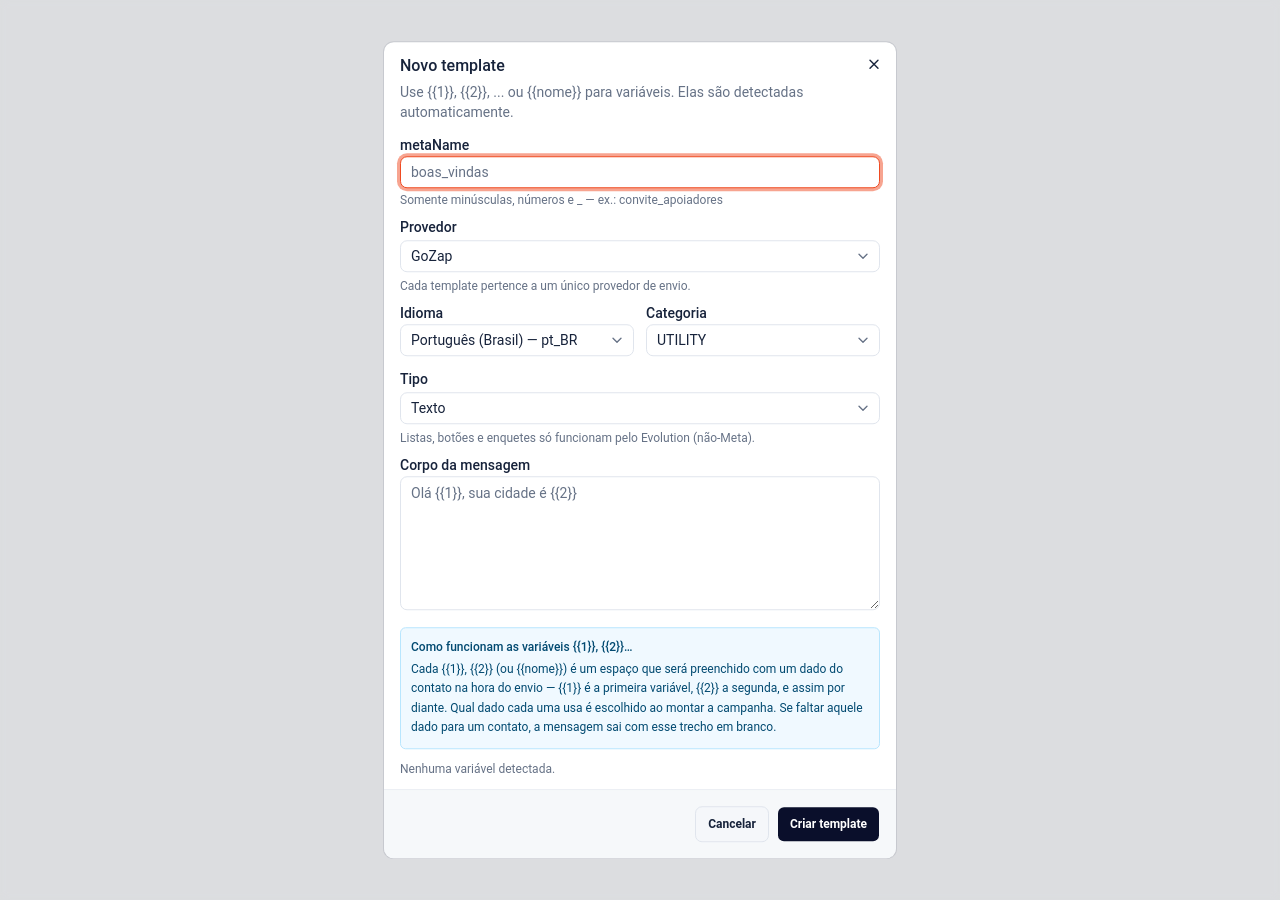
Test case: TemplateFormDialog — provider field (create mode) › does not offer Twilio as a provider option when creating a template
What coordinates should you click on to do the following:
click the dropdown labelled "GoZap"
I would click on:
 (432, 256)
Its box is [400, 240, 880, 272].
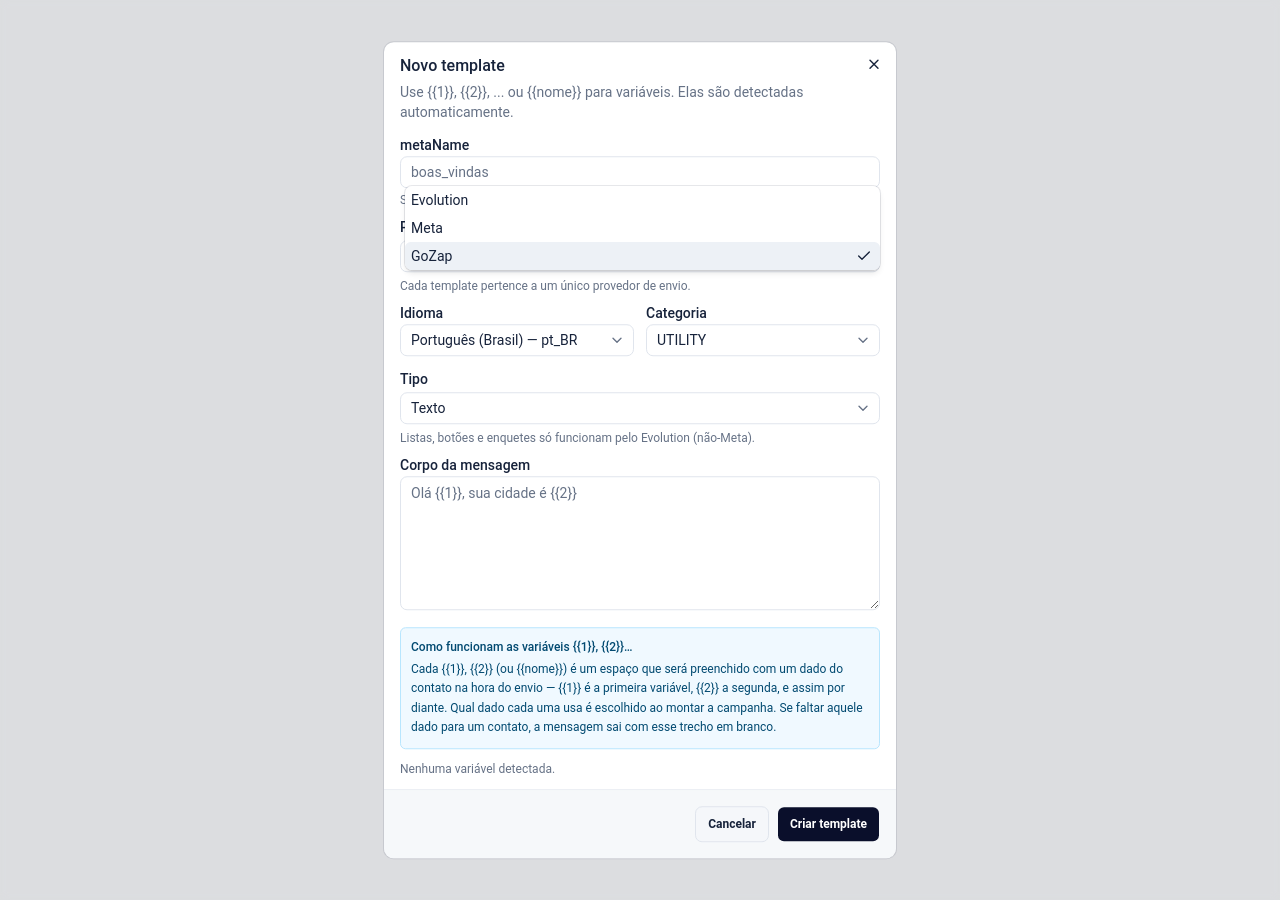
Expected: the option "Evolution" is shown, [411, 192, 468, 208]
